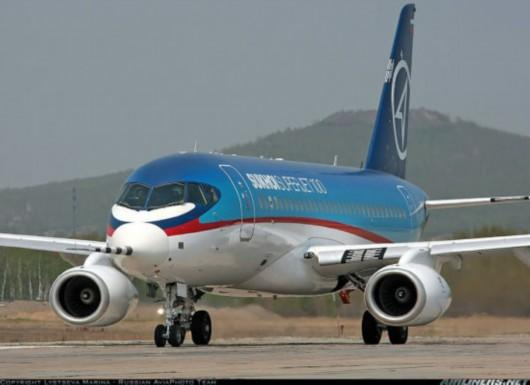airplane: (20, 150, 530, 349)
